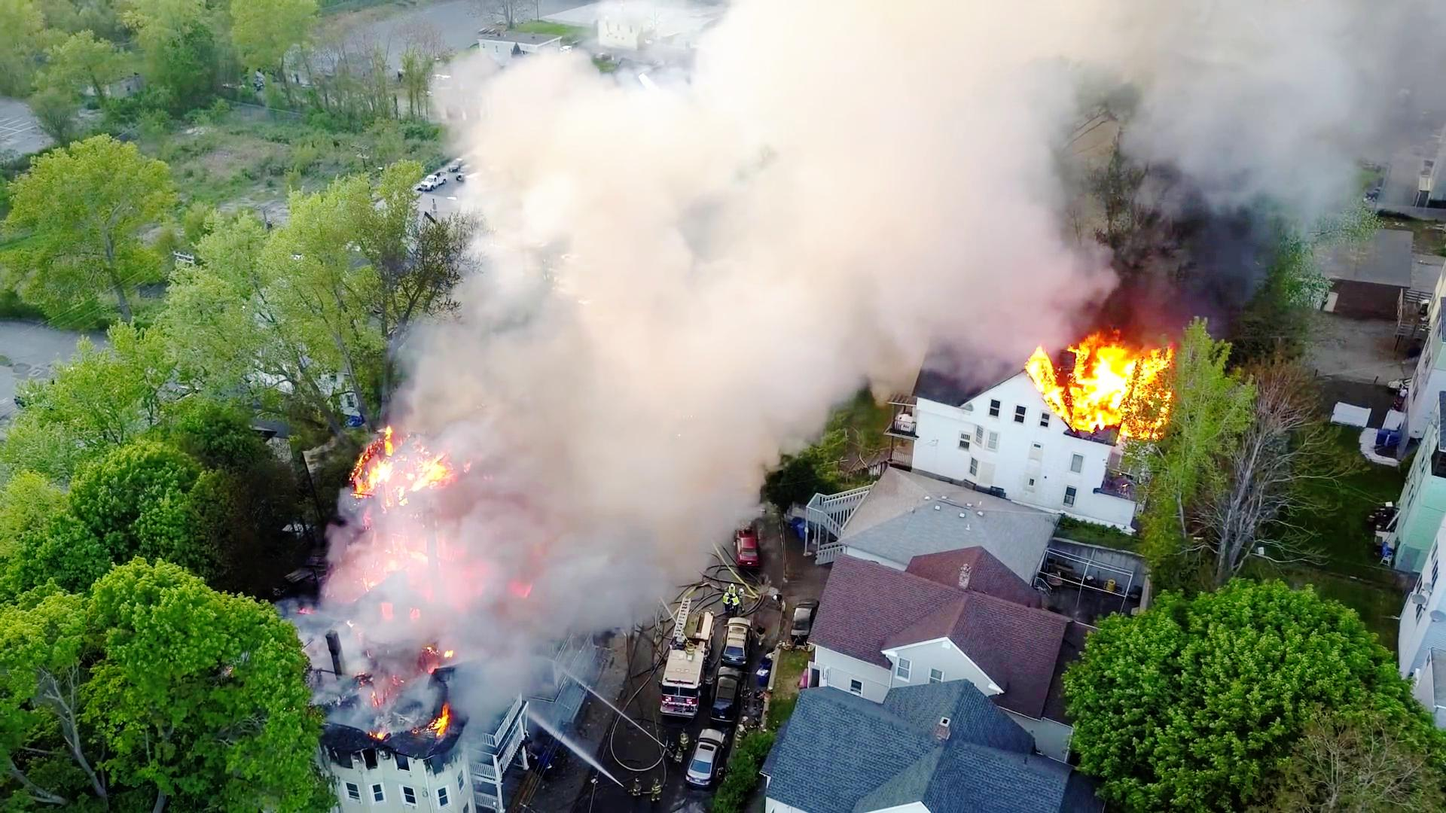fire: (1042, 333, 1180, 444), (335, 429, 460, 517)
smoke: (501, 76, 748, 461)
